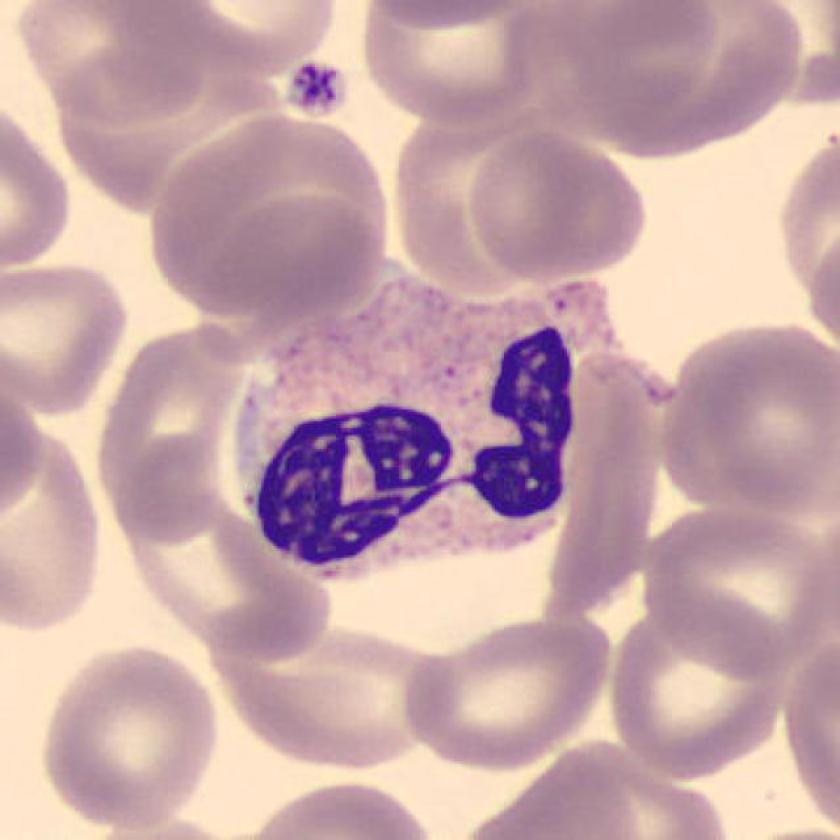neutrophil: (240, 281, 614, 580)
